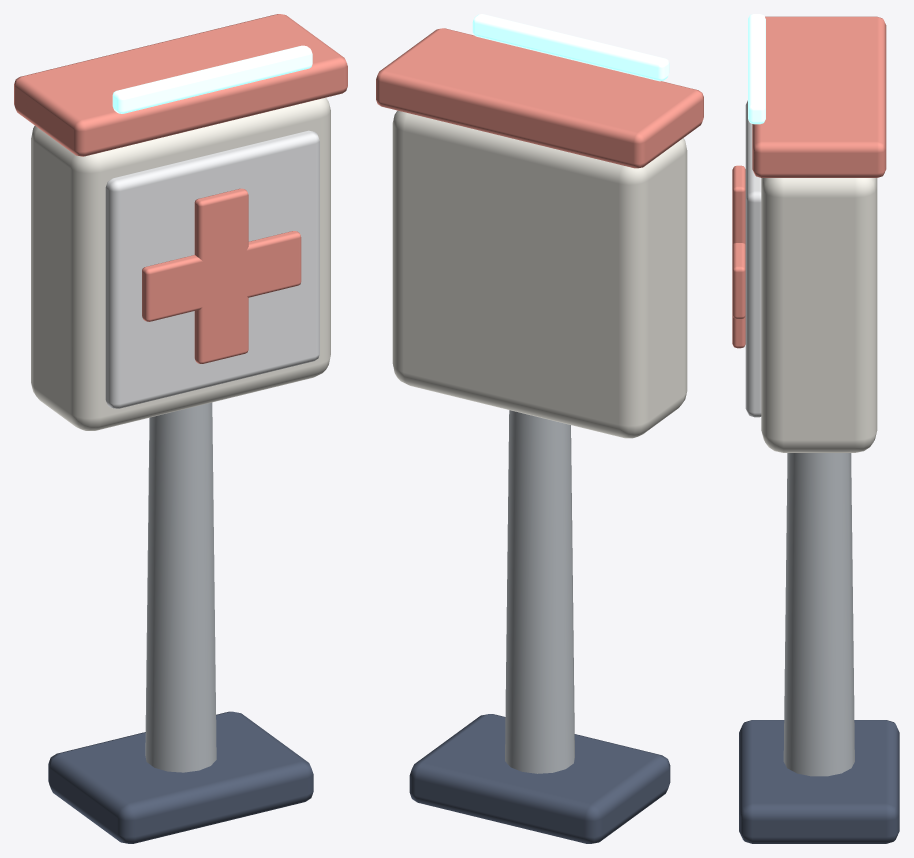
File: hero-shooter-harbour-payload-interactive-first-aid-sta-652f75ae__27689.glb
3 renders of one model, left to right at view 1: azimuth 30°, elevation 25°; view 2: azimuth 150°, elevation 25°; view 3: azimuth 270°, elevation 25°, orthographic.
Parts seen in each view (by area): view 1: interactive-first-aid-station; view 2: interactive-first-aid-station; view 3: interactive-first-aid-station.
Part boxes in pixels (box(x1,y1,x2,y2)): interactive-first-aid-station: box(14, 14, 347, 843); interactive-first-aid-station: box(376, 14, 703, 843); interactive-first-aid-station: box(732, 14, 899, 843).
Bounding box in the file's own units: 0.7 × 1.84 × 0.375.
